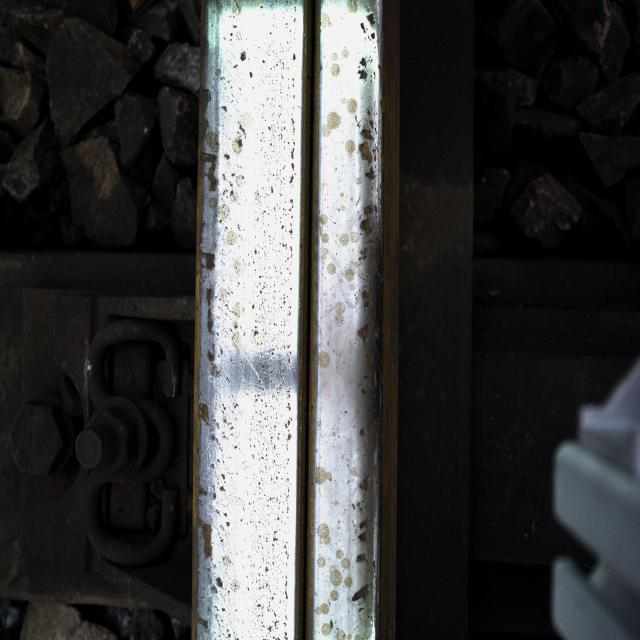scar: (201, 31, 264, 480), (312, 437, 372, 640), (316, 2, 364, 168)
